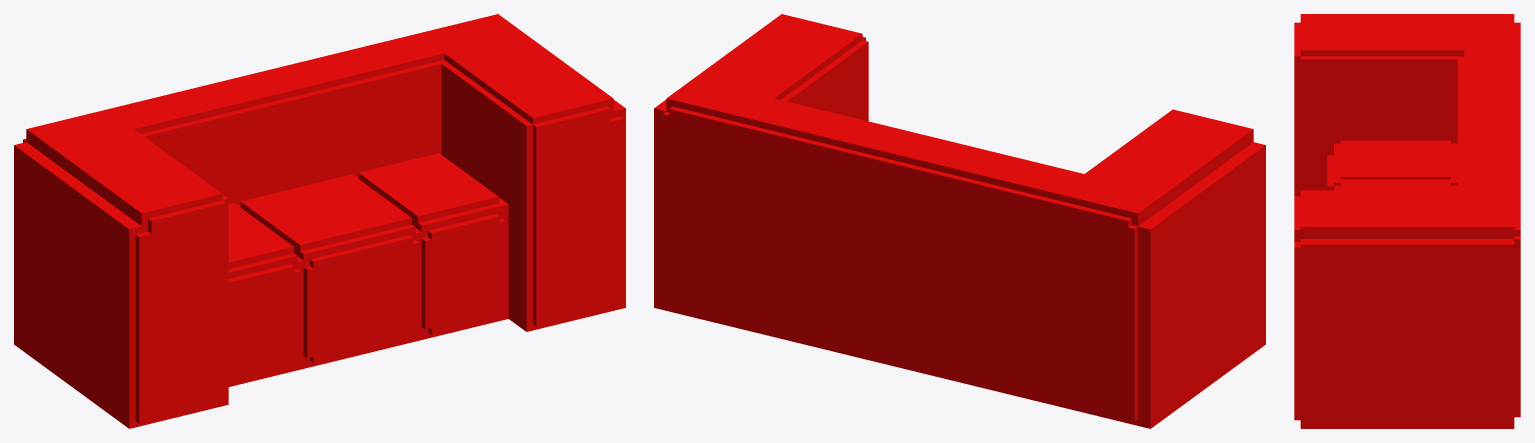
File: 3 seat Sofa.fbx
The picture shows the model from 3 angles, left to right: view 1: azimuth 30°, elevation 25°; view 2: azimuth 150°, elevation 25°; view 3: azimuth 270°, elevation 25°; orthographic projection. The views are drawn at different scales.
Visible parts, largest first — view 1: 3 seat sofa; view 2: 3 seat sofa; view 3: 3 seat sofa.
Boxes of the visible parts, x1,y1,x2,y2 form: 3 seat sofa: [14, 14, 625, 428]; 3 seat sofa: [654, 14, 1265, 428]; 3 seat sofa: [1294, 14, 1520, 428].
Bounding box in the file's own units: 2.09 × 0.8533 × 0.892.
